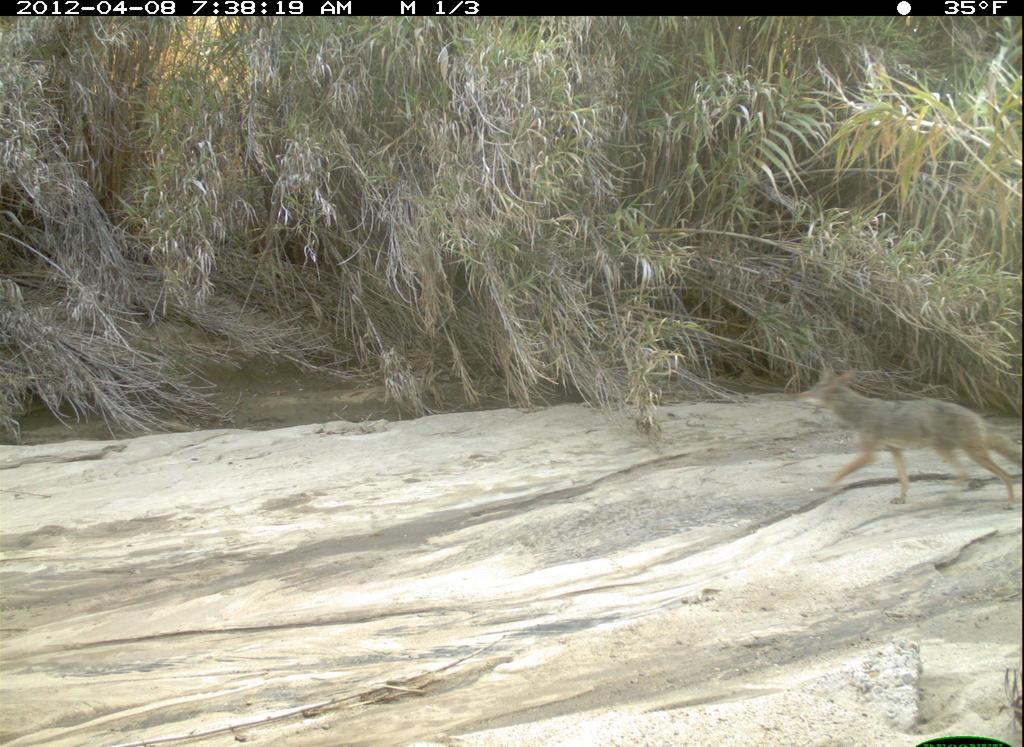coyote: (765, 336, 1010, 537)
